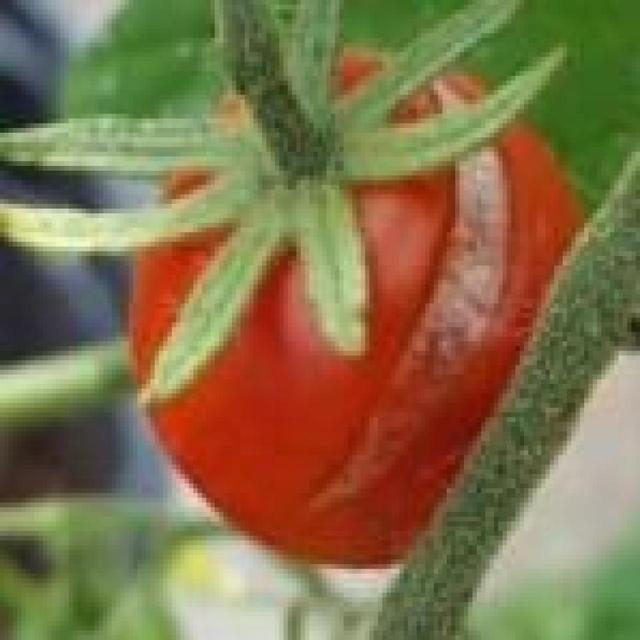Cracking Fruit: (197, 41, 350, 335)
